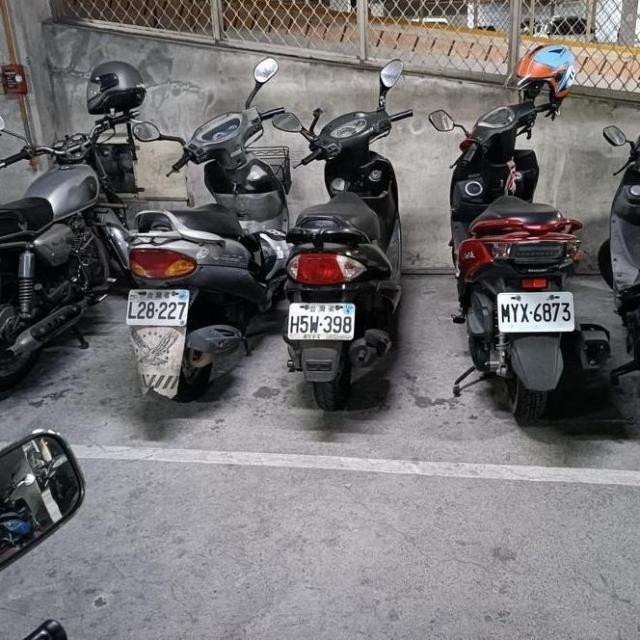W: (494, 286, 576, 334), (284, 294, 358, 344), (123, 282, 192, 330)
